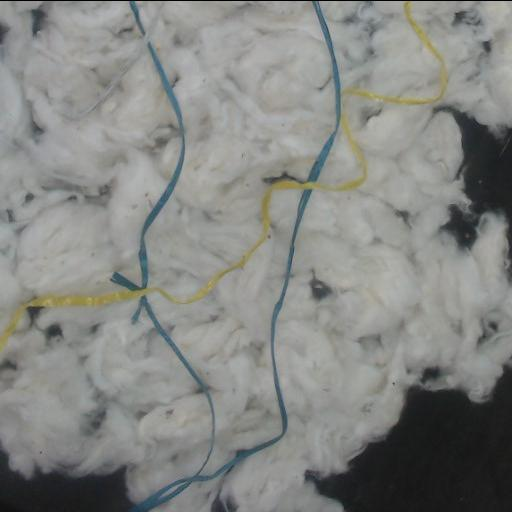conveyor belt: (307, 369, 511, 512), (0, 452, 126, 512), (454, 113, 511, 221), (441, 205, 479, 248)
cotton: (0, 1, 511, 512)
thread: (0, 103, 367, 352), (131, 190, 311, 512), (138, 41, 185, 287), (341, 1, 447, 104), (313, 1, 340, 116), (309, 128, 336, 180), (129, 1, 144, 35)
